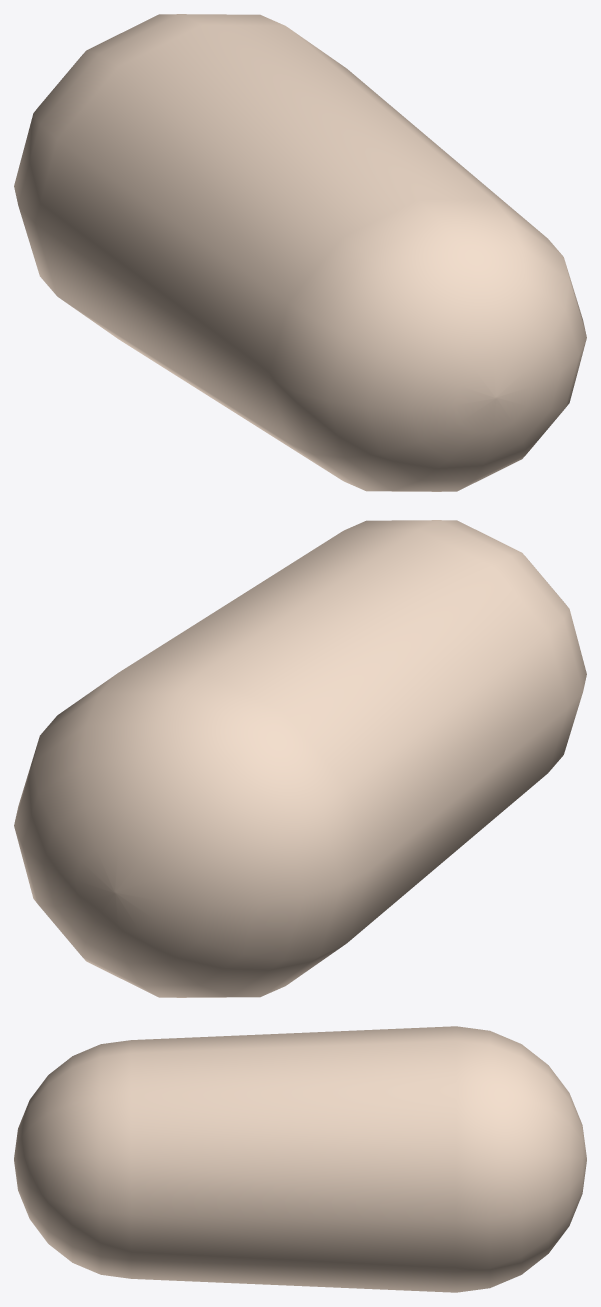
Rendered from thumb_tip.fbx.
The picture shows the model from 3 angles, top to bottom: view 1: azimuth 30°, elevation 25°; view 2: azimuth 150°, elevation 25°; view 3: azimuth 270°, elevation 25°; orthographic projection. The views are drawn at different scales.
Parts seen in each view (by area): view 1: thumb_tip; view 2: thumb_tip; view 3: thumb_tip.
Boxes of the visible parts, x1,y1,x2,y2 form: thumb_tip: (14, 14, 586, 491); thumb_tip: (14, 520, 586, 997); thumb_tip: (14, 1026, 586, 1292).
Size of the model in its own units: 0.025 by 0.0225 by 0.0493.
